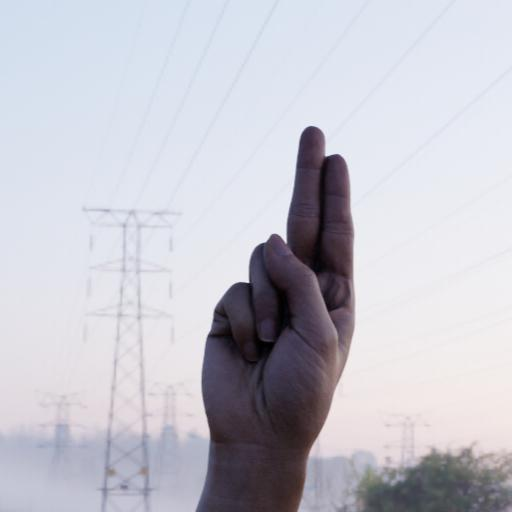U: (158, 88, 398, 481)
